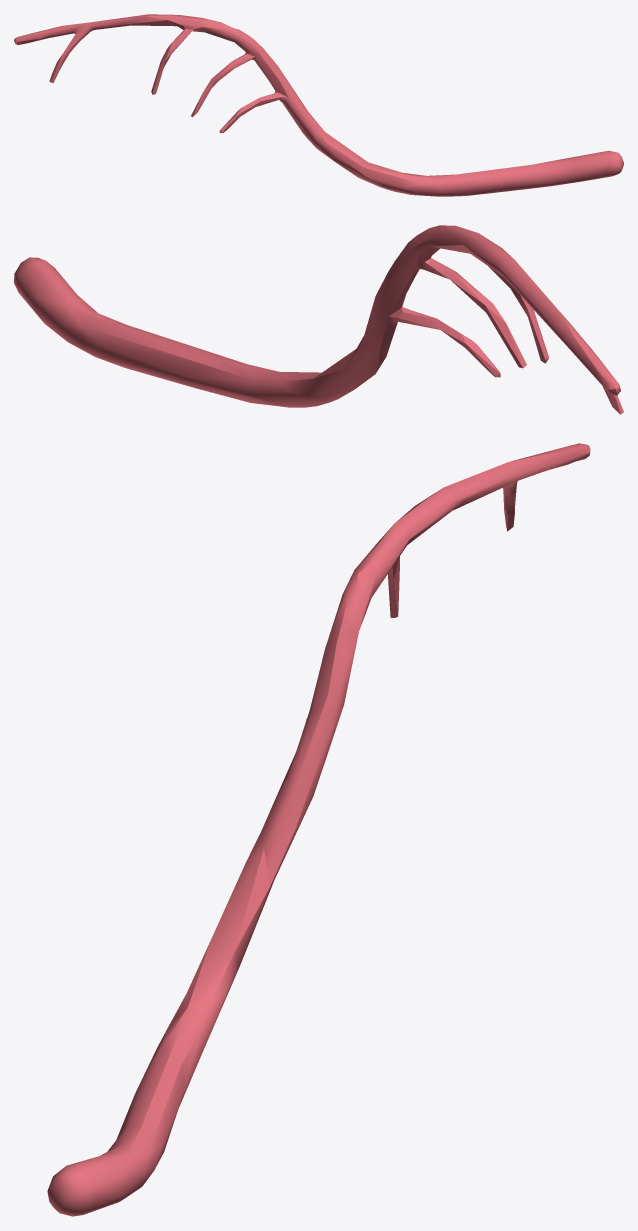
Rendered from fma14755_fj3586.glb.
3 renders of one model, top to bottom at view 1: azimuth 30°, elevation 25°; view 2: azimuth 150°, elevation 25°; view 3: azimuth 270°, elevation 25°, orthographic. The views are drawn at different scales.
Parts seen in each view (by area): view 1: FMA14755_FJ3586; view 2: FMA14755_FJ3586; view 3: FMA14755_FJ3586.
Part boxes in pixels (<box>): FMA14755_FJ3586: <box>14,14,623,196</box>; FMA14755_FJ3586: <box>14,225,623,414</box>; FMA14755_FJ3586: <box>47,443,590,1216</box>.
Size of the model in its own units: 0.0615 by 0.0235 by 0.0302.
